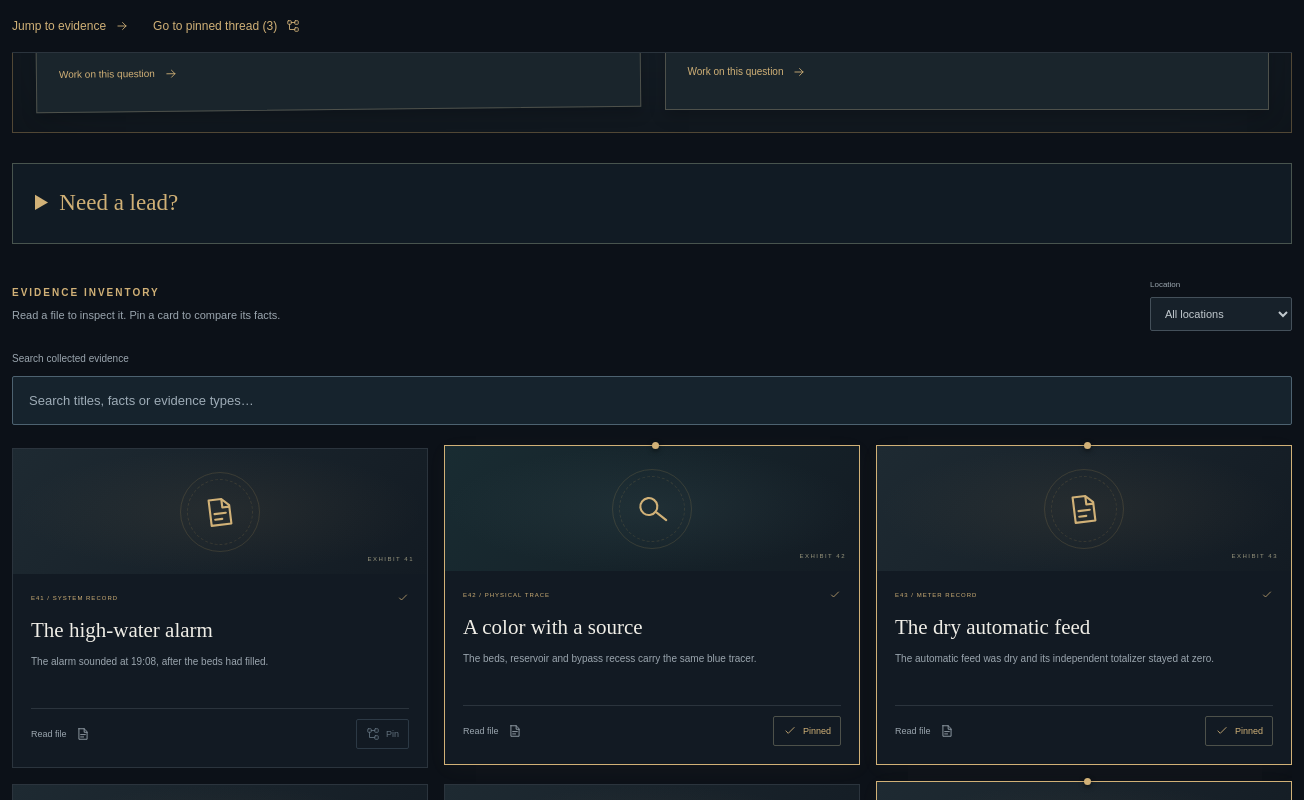
Test: keeps explanations within the thread destination and removes pins hidden by search
This screenshot has width=1304, height=800.
(page scrolled)
In the search field: (652, 400) [12,376,1292,425], type "nothing matches this"
(page scrolled)
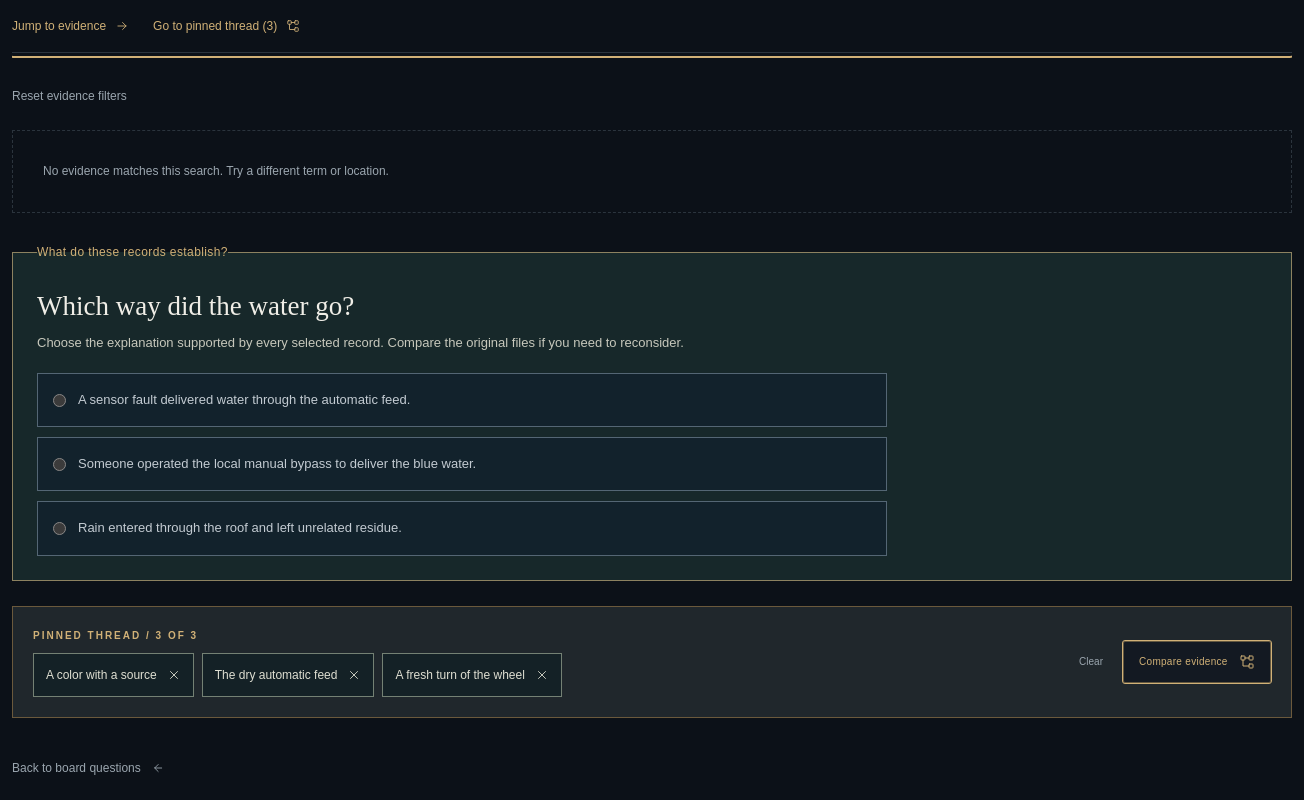
Click the button with aria-label "Remove A color with a source from thread": (113, 674) [33,652,194,696]
(page scrolled)
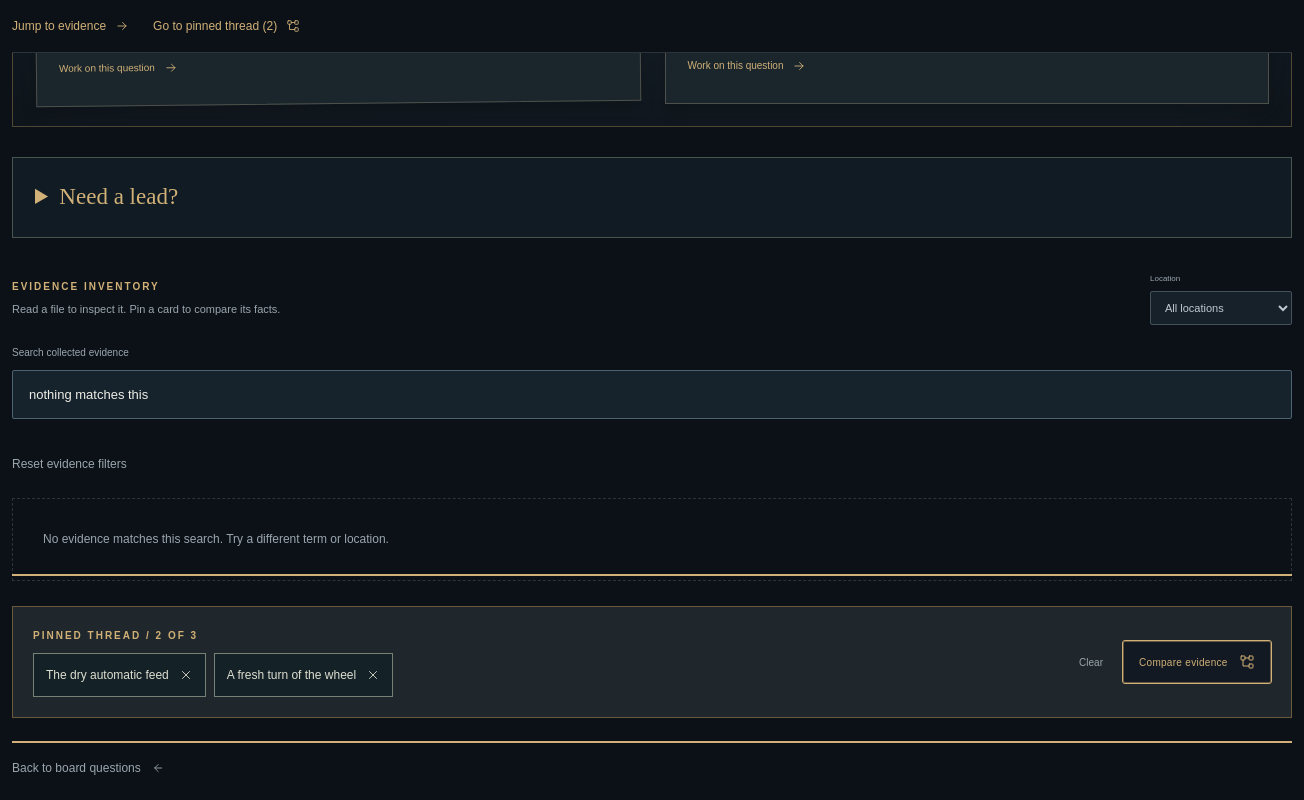
Click the button "Reset evidence filters": (69, 464) [12,442,127,486]
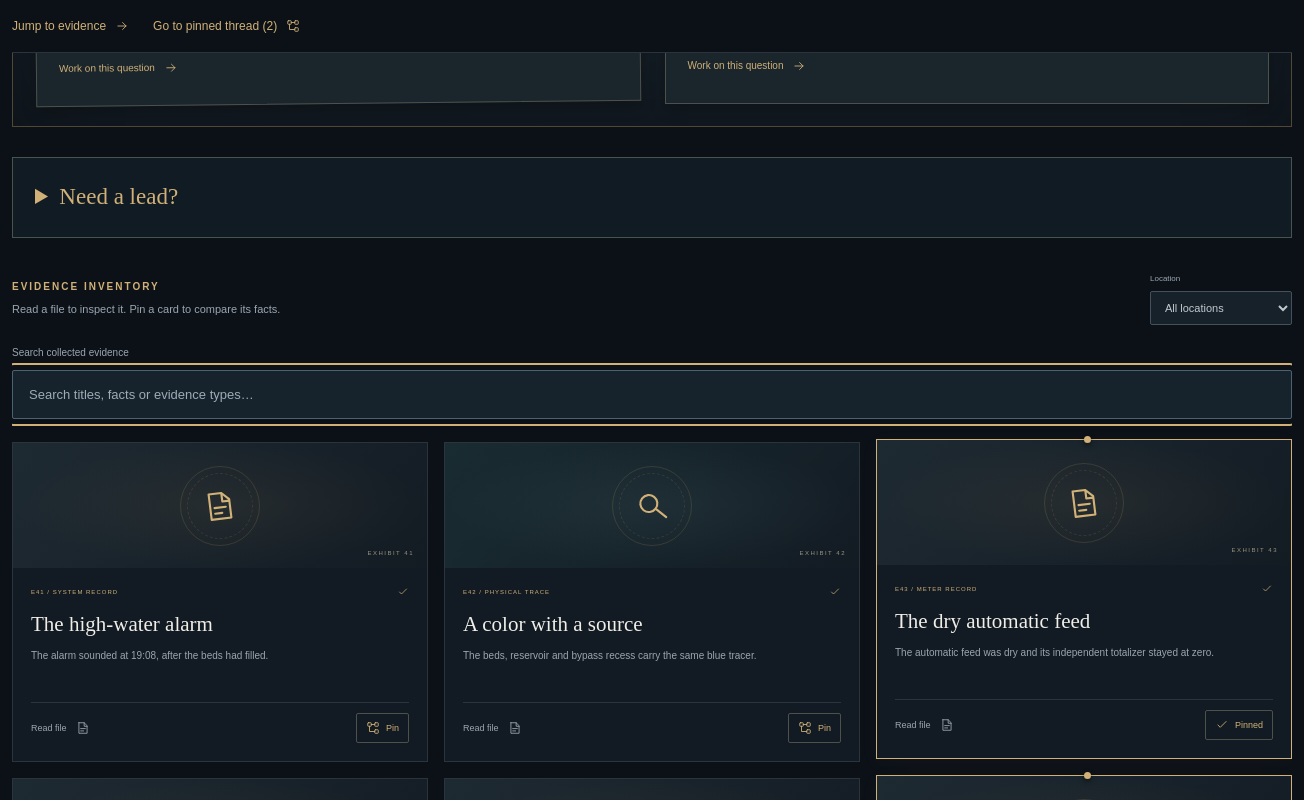
Result: the button with aria-label "Pin A color with a source" is enabled at [788,713,841,743]
